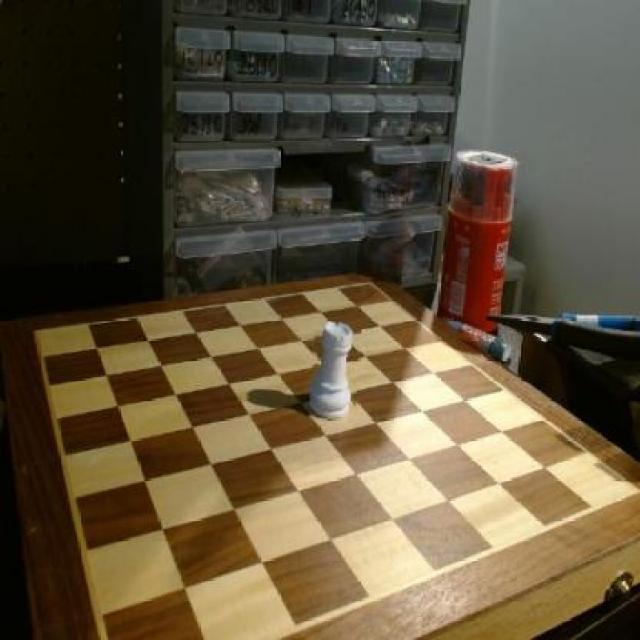white-queen: (309, 320, 359, 422)
